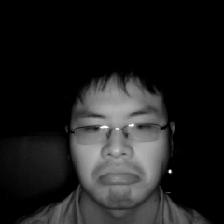sad: (59, 63, 178, 212)
